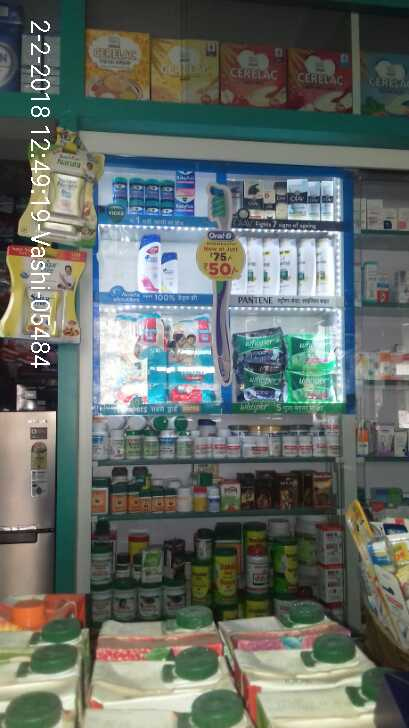beauty: (137, 232, 161, 295), (315, 236, 335, 297), (296, 238, 315, 297), (278, 238, 296, 297), (262, 235, 279, 297), (286, 177, 308, 222), (246, 236, 262, 295), (243, 179, 265, 217), (160, 250, 180, 291), (272, 181, 287, 220), (320, 181, 334, 220), (308, 180, 320, 221), (264, 191, 276, 219)
pharmacy: (231, 328, 287, 370), (172, 317, 211, 368), (168, 367, 217, 401), (287, 370, 337, 403), (235, 372, 286, 403), (160, 179, 176, 204), (127, 177, 145, 199), (112, 177, 127, 200), (145, 177, 160, 199)
